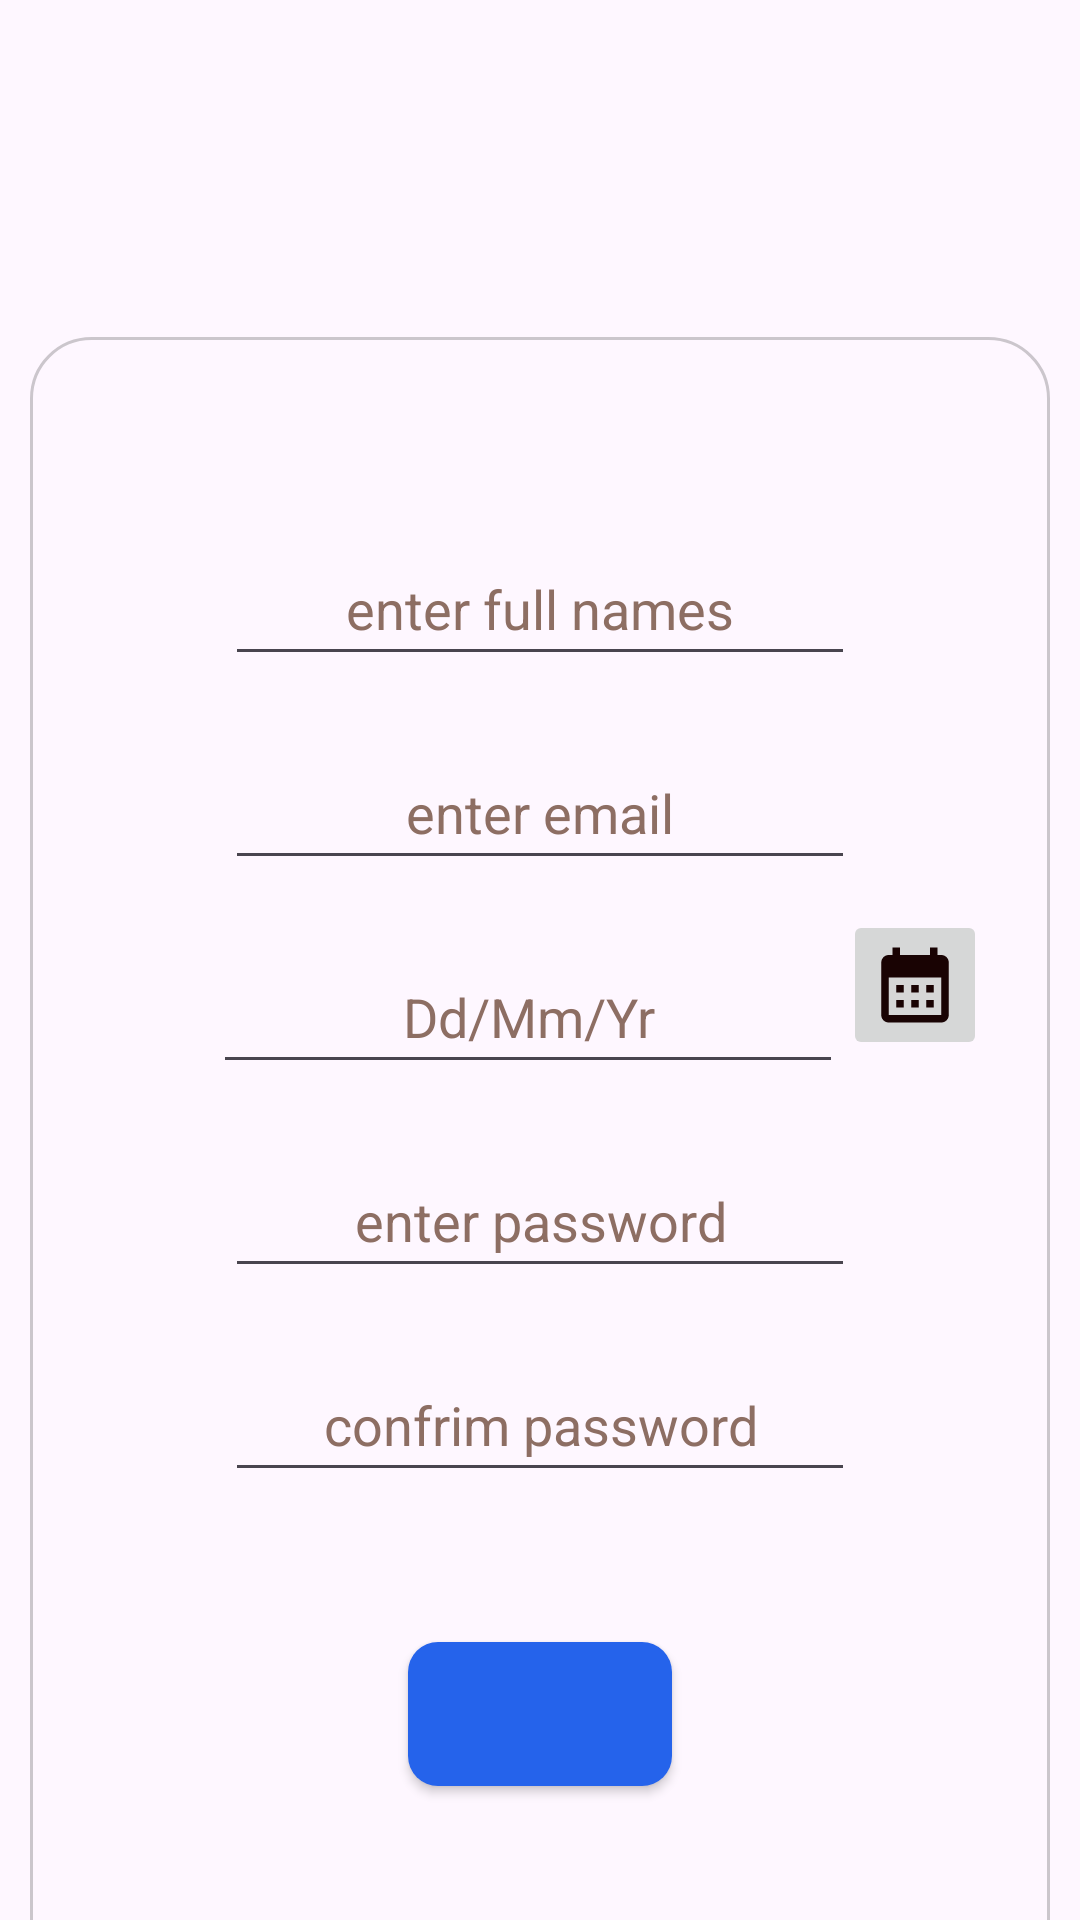

Screen size 1080 × 1920. Icon name, then its center in pixels as (x=x, y=y):
calendar month: (x=915, y=985)
